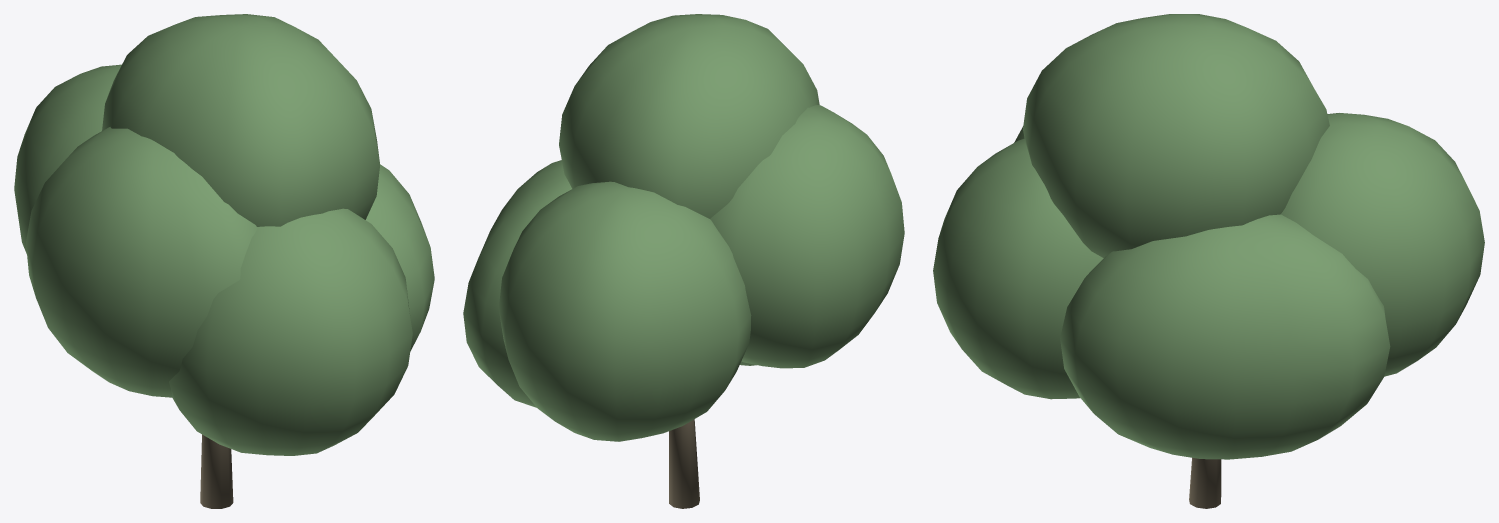
Rendered from SM_MPR_Env_Tree_2.fbx.
3 views of the same model, side by side, from view 1: azimuth 30°, elevation 25°; view 2: azimuth 150°, elevation 25°; view 3: azimuth 270°, elevation 25° (orthographic). The views are drawn at different scales.
Visible parts, largest first — view 1: SM_MPR_Env_Tree_2; view 2: SM_MPR_Env_Tree_2; view 3: SM_MPR_Env_Tree_2.
Part boxes in pixels (bbox=[...]): SM_MPR_Env_Tree_2: bbox=[14, 14, 434, 508]; SM_MPR_Env_Tree_2: bbox=[463, 14, 904, 508]; SM_MPR_Env_Tree_2: bbox=[933, 14, 1484, 508].
Size of the model in its own units: 708 by 905 by 871.
